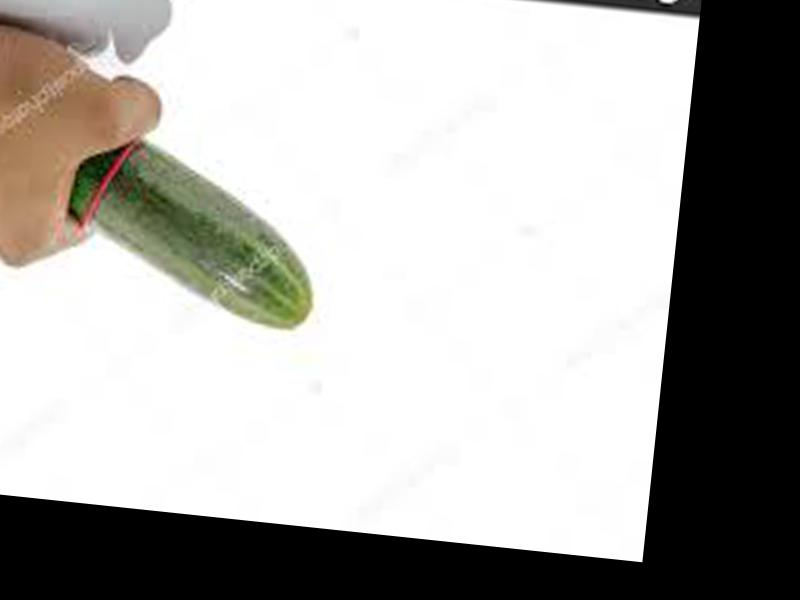Cucumber: (58, 134, 327, 331)
